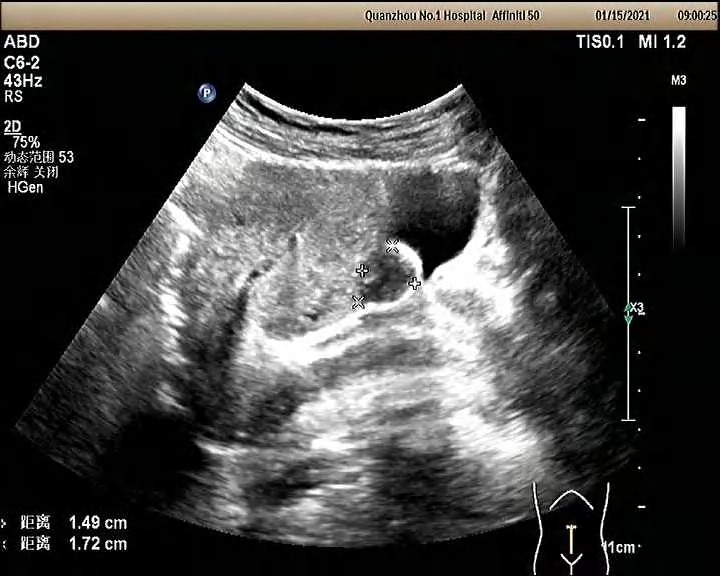肌瘤: (357, 252, 413, 304)
